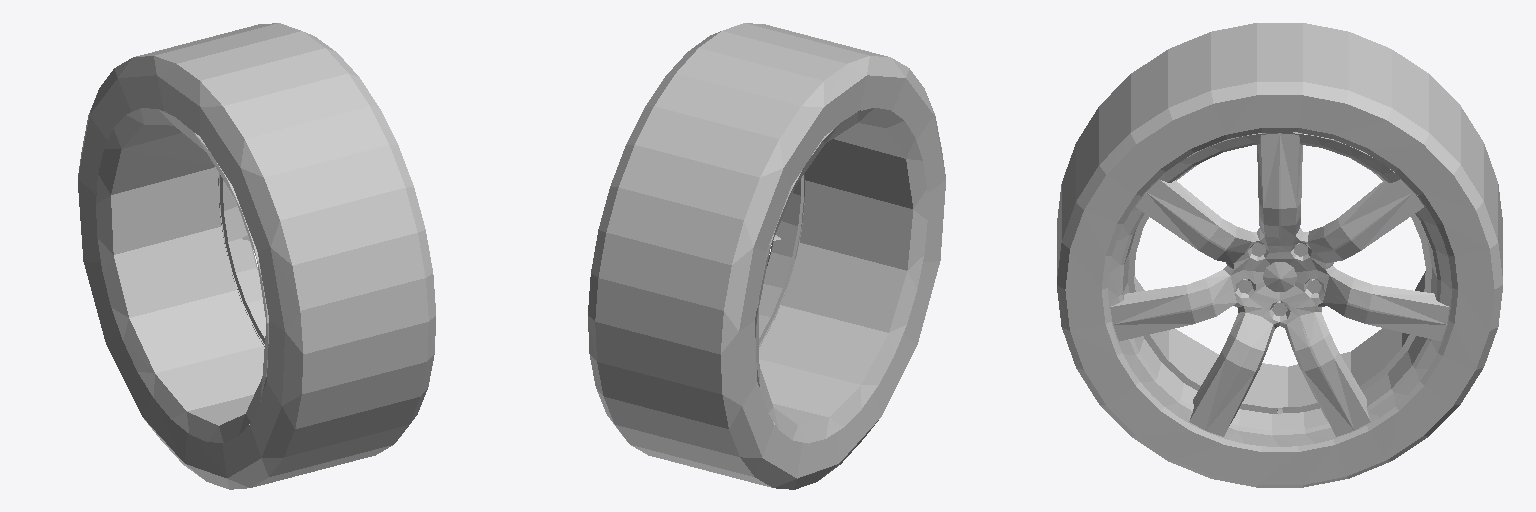
Rendered from Nissan_TireL.obj.
3 views of the same model, side by side, from view 1: azimuth 30°, elevation 25°; view 2: azimuth 150°, elevation 25°; view 3: azimuth 270°, elevation 25° (orthographic).
Visible parts, largest first — view 1: TireRL1; view 2: TireRL1; view 3: TireRL1.
Part boxes in pixels (left/top/right/bottom): TireRL1: left=78, top=23, right=435, bottom=489; TireRL1: left=588, top=23, right=945, bottom=489; TireRL1: left=1057, top=23, right=1502, bottom=487.
Size of the model in its own units: 0.2835 by 0.7076 by 0.708.